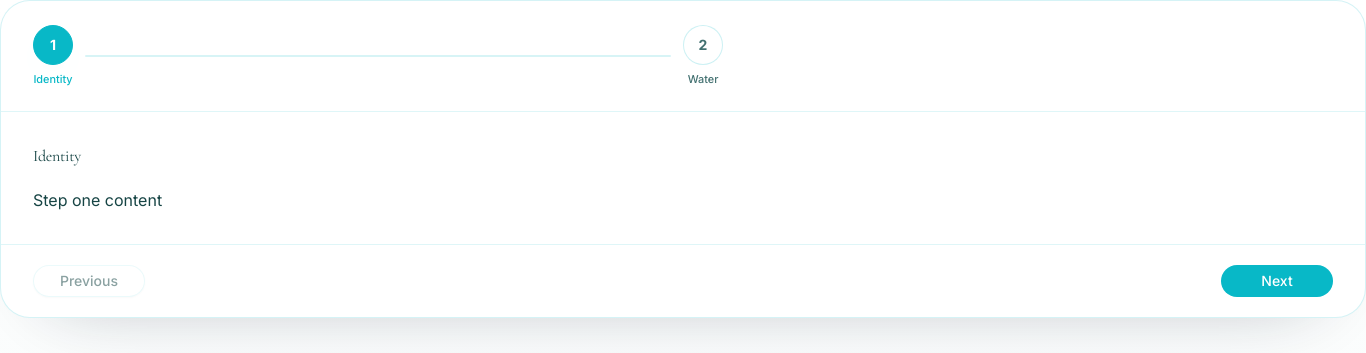
it: Stepper › advances to the next step and marks the prior step invalid when validation fails
The width and height of the screenshot is (1366, 353).
Step 1. Click the button "Next" → point(1277, 281), box [1221,265,1333,297]
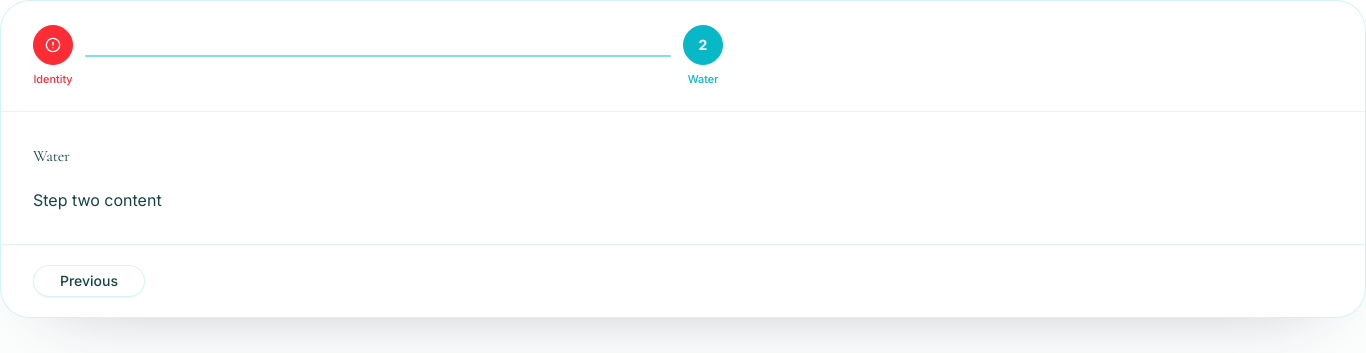
Expected: the text "Step two content" is shown, [33,190,162,210]
